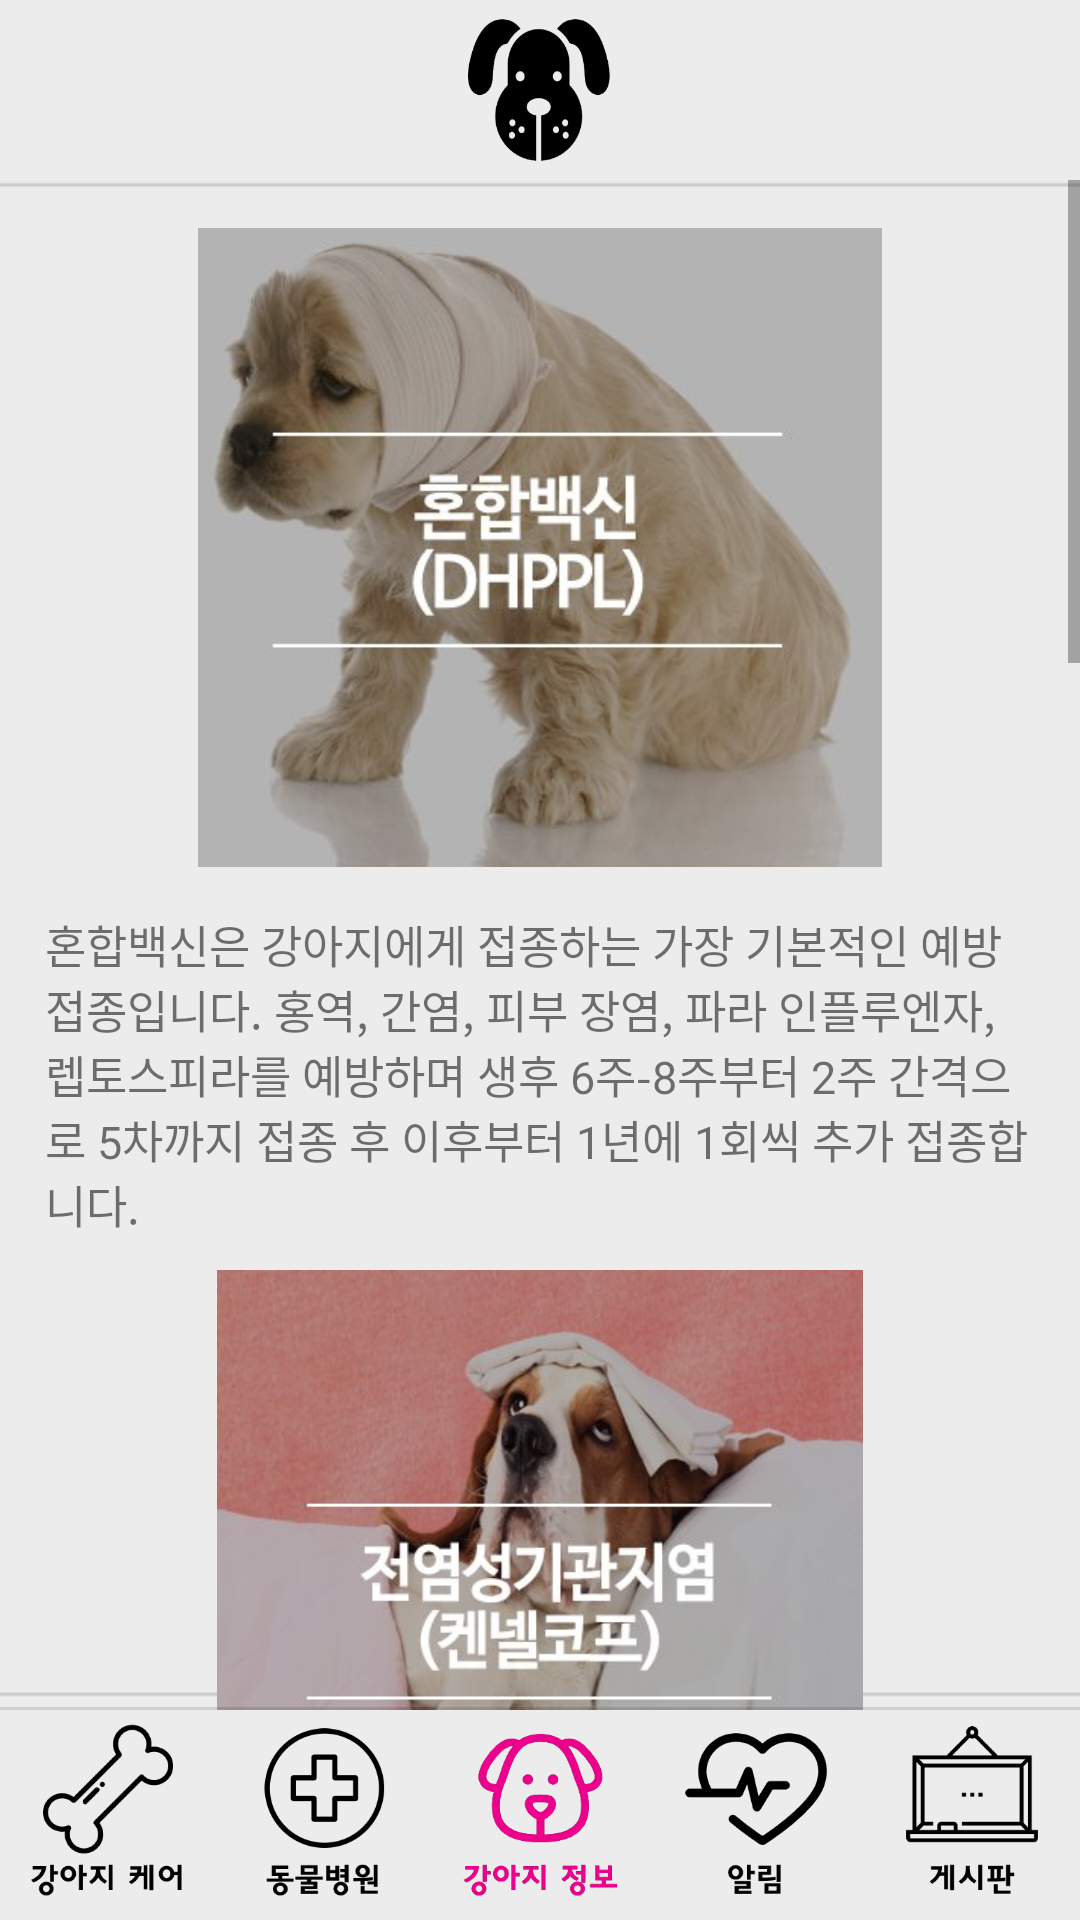

Icons on this 1080 × 1920 Android screen, each with the point to tap as [x,y]:
dogdogface: [539,90]
